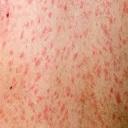Measles: (13, 12, 120, 118)
